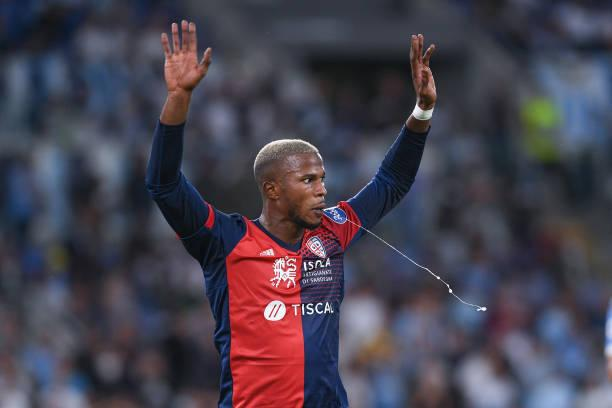Spitting: (252, 127, 350, 235)
